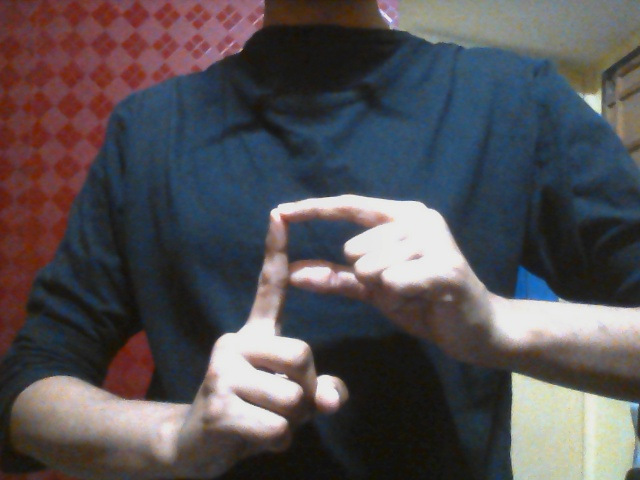P: (192, 194, 465, 457)
